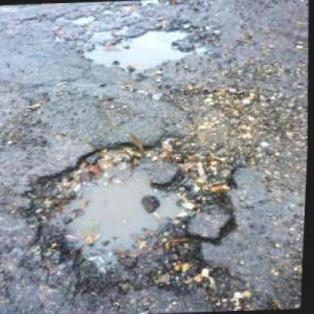Hueco: (13, 139, 257, 308), (74, 20, 222, 75)
